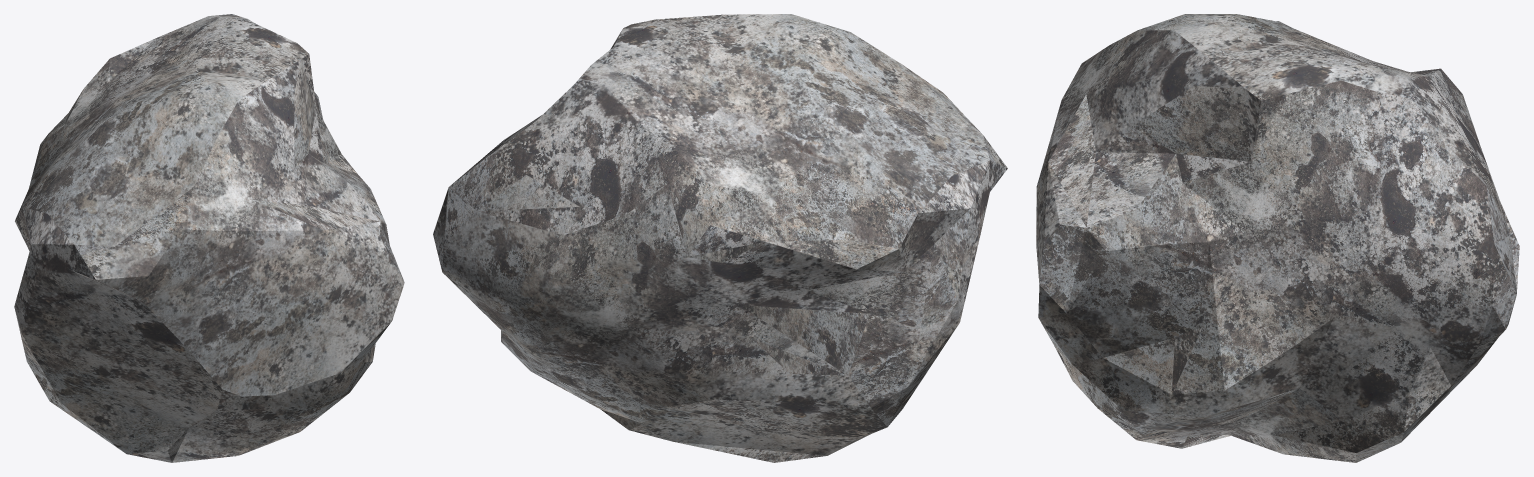
The model's file is Asteroid_Large_005.fbx.
3 views of the same model, side by side, from view 1: azimuth 30°, elevation 25°; view 2: azimuth 150°, elevation 25°; view 3: azimuth 270°, elevation 25° (orthographic). The views are drawn at different scales.
Parts seen in each view (by area): view 1: Asteroid_Large_005; view 2: Asteroid_Large_005; view 3: Asteroid_Large_005.
Part boxes in pixels (x1,y1,x2,y2): Asteroid_Large_005: (14,14,404,462); Asteroid_Large_005: (433,14,1007,462); Asteroid_Large_005: (1036,14,1519,462).
Bounding box in the file's own units: 40.56 × 38.85 × 38.27.
Materials: 1 (1 with a texture image).
